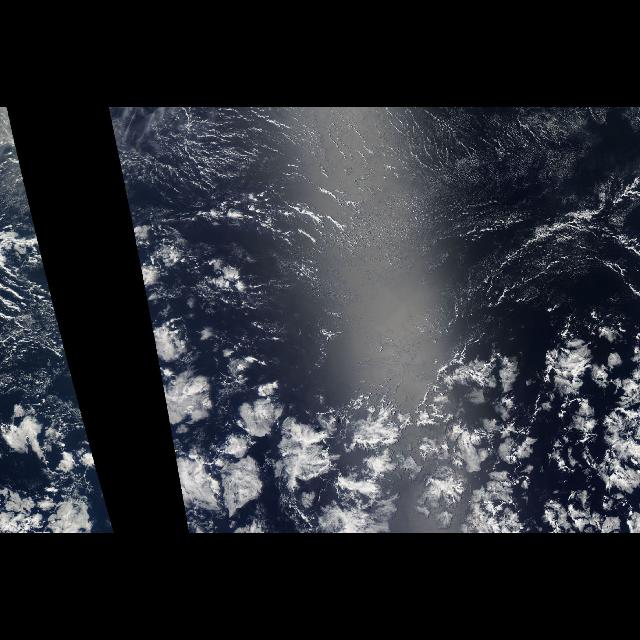Flower: (148, 311, 638, 533), (0, 315, 116, 533)
Sugar: (192, 107, 640, 309)
